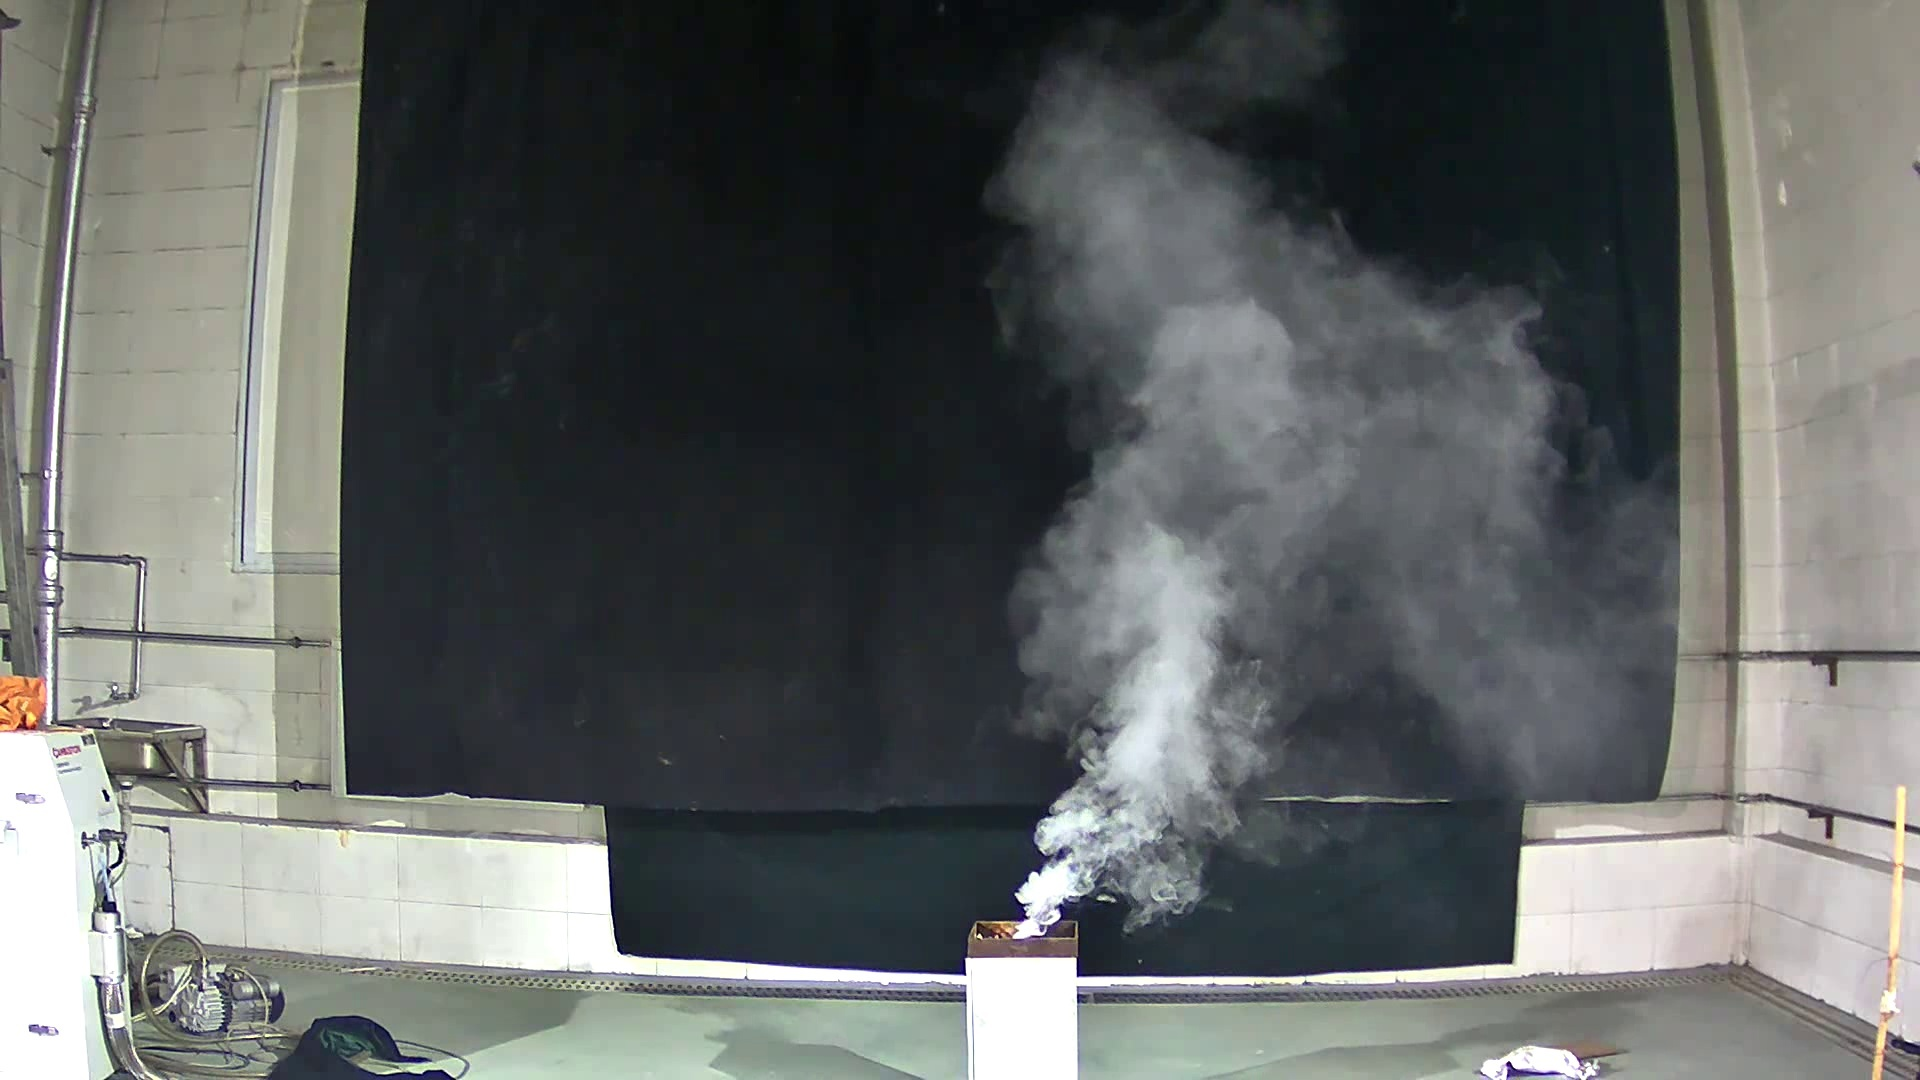smoke: (945, 18, 1669, 943)
